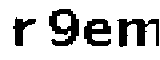9: (45, 6, 78, 50)
e: (81, 15, 112, 49)
m: (114, 16, 160, 49)
r: (9, 14, 37, 49)
